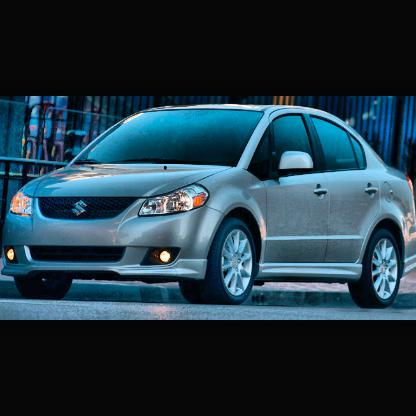Suzuki SX4 Sedan 2012: (2, 103, 416, 310)
